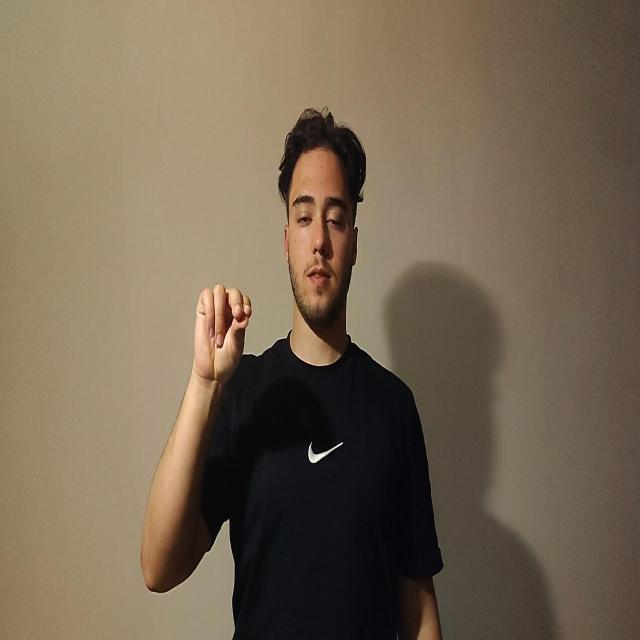no: (193, 283, 252, 383)
